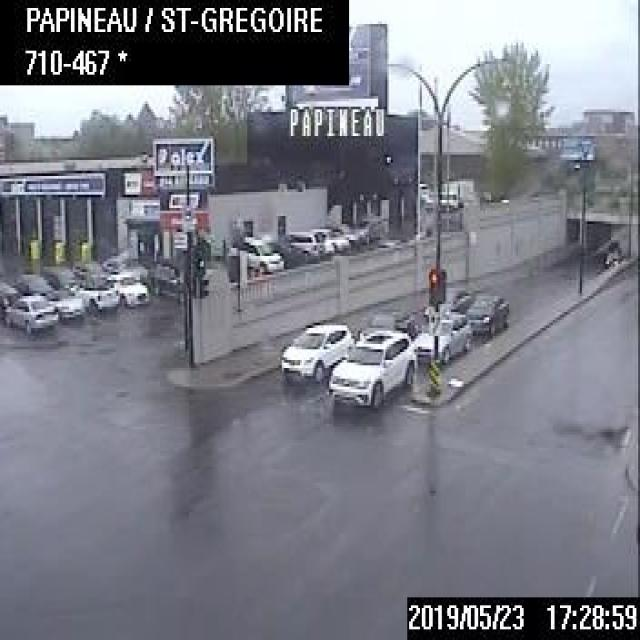vehicle: (327, 324, 418, 411), (276, 316, 350, 386), (411, 308, 472, 364), (227, 229, 283, 276), (2, 290, 59, 333), (358, 308, 416, 344), (467, 291, 507, 336), (148, 257, 184, 303), (420, 285, 470, 318), (108, 268, 149, 305), (438, 174, 474, 214), (75, 276, 119, 308), (285, 226, 324, 262), (44, 285, 85, 318), (100, 255, 146, 282), (40, 263, 80, 289), (68, 259, 105, 287), (12, 271, 51, 293), (0, 276, 18, 311)
